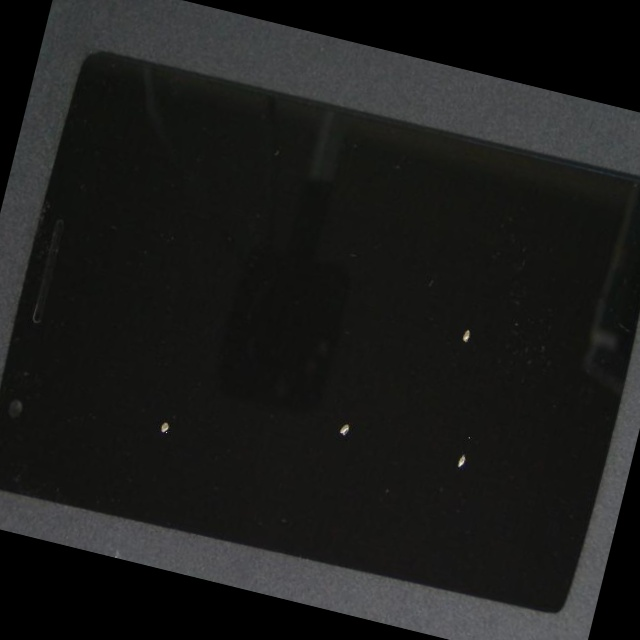stain: (142, 201, 640, 640), (89, 204, 570, 640), (217, 111, 640, 480), (8, 195, 301, 583)
